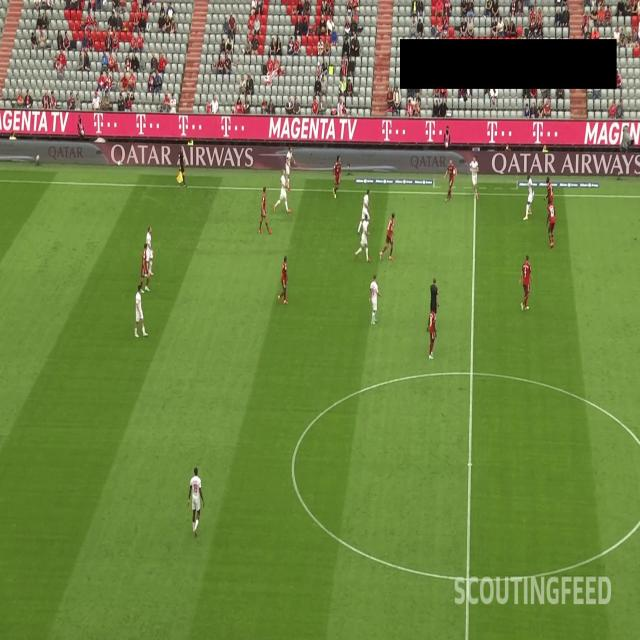player: (186, 464, 204, 539), (378, 210, 396, 261), (518, 252, 533, 312), (274, 167, 292, 214), (368, 271, 382, 326), (258, 184, 273, 235), (133, 287, 148, 338), (277, 252, 291, 306), (356, 214, 371, 264), (544, 195, 557, 249), (358, 187, 372, 235), (543, 175, 556, 226), (444, 157, 458, 204), (283, 146, 297, 192), (522, 174, 536, 218), (330, 152, 343, 199), (427, 306, 438, 361), (140, 240, 150, 294), (470, 155, 480, 203), (146, 222, 154, 278)
referee: (428, 275, 440, 335), (175, 145, 188, 190)
